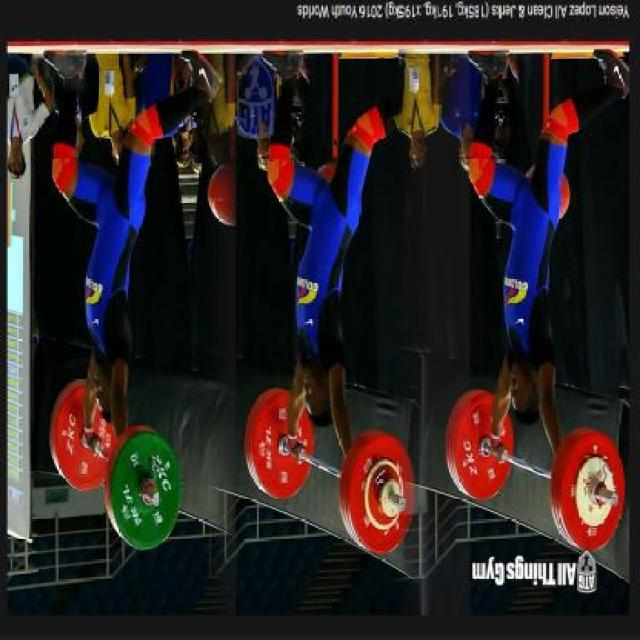Barbell: (148, 484, 166, 514), (606, 486, 622, 509), (396, 492, 409, 516)
